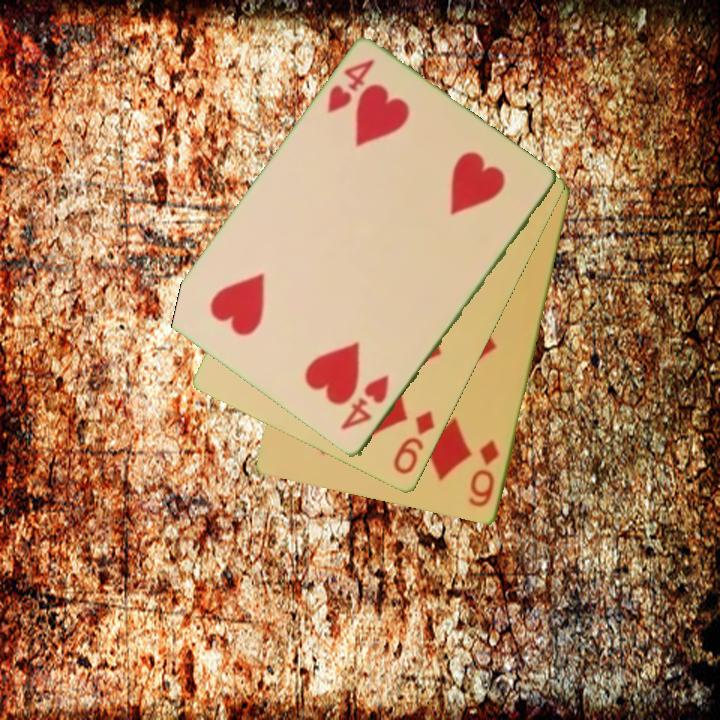4h: (337, 371, 393, 434), (323, 55, 377, 117)
6d: (465, 436, 503, 511)
9d: (390, 407, 438, 478)
